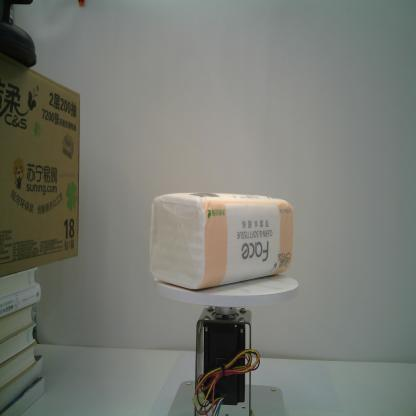Tissue: (148, 191, 295, 291)
